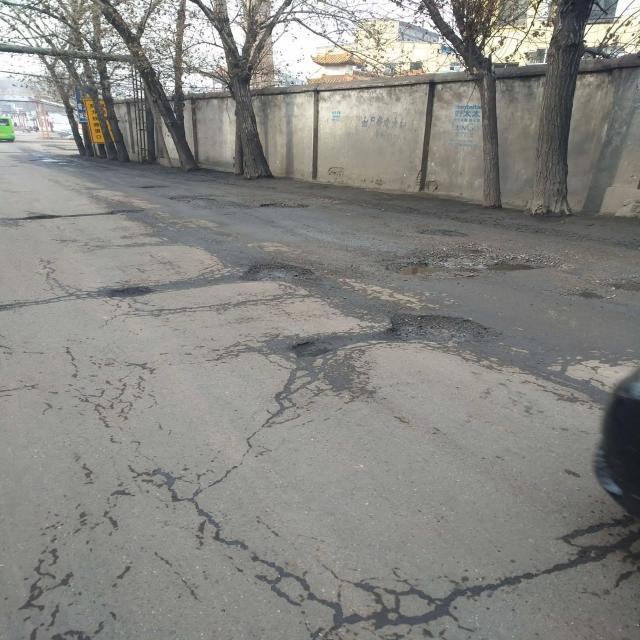Buraco: (287, 312, 499, 359), (380, 246, 568, 282), (235, 260, 318, 283), (585, 275, 640, 294), (256, 198, 314, 212), (557, 287, 608, 302), (415, 226, 469, 239), (27, 155, 69, 162), (48, 162, 71, 166)
